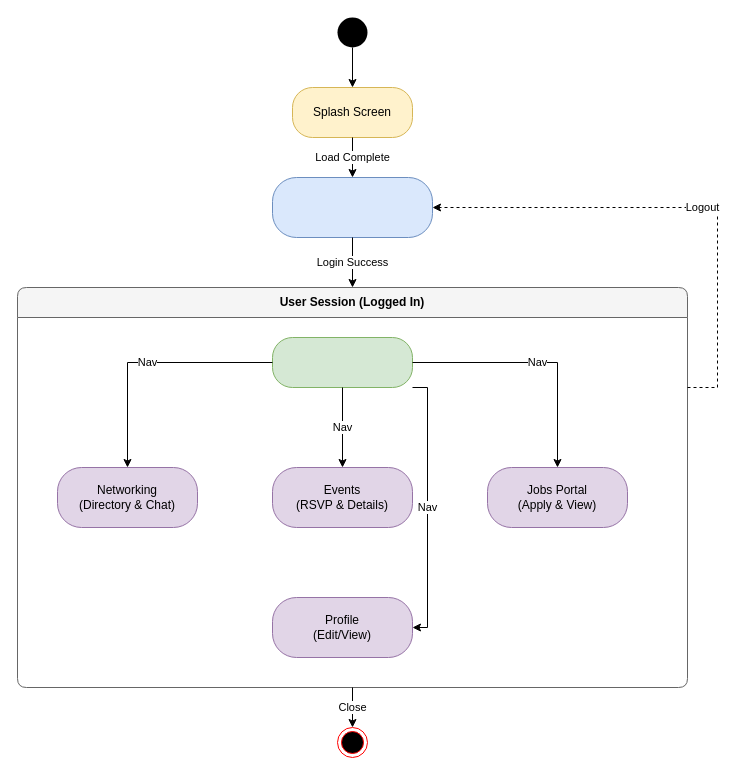
The diagram is 743 pixels wide and 775 high, and some of its shapes have lost their labels. The shapes that lost their labels are listed below. From the top down, each one's centre as x and y in pixels, then its label:
the point at 352,207: Authentication (Login / Register)
the point at 342,362: Dashboard Feed
